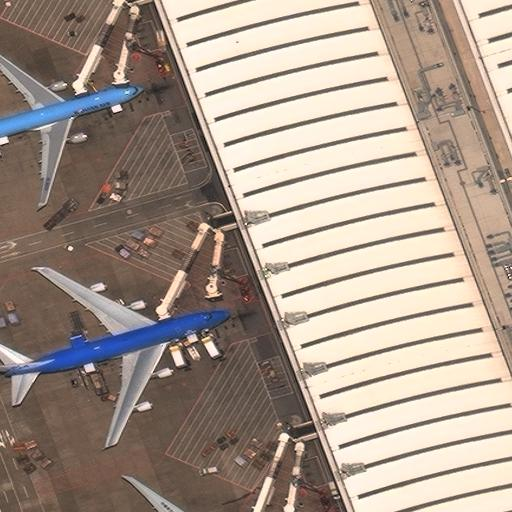Large Civil Transport: (0, 267, 231, 442), (0, 47, 144, 204), (108, 476, 274, 511)
